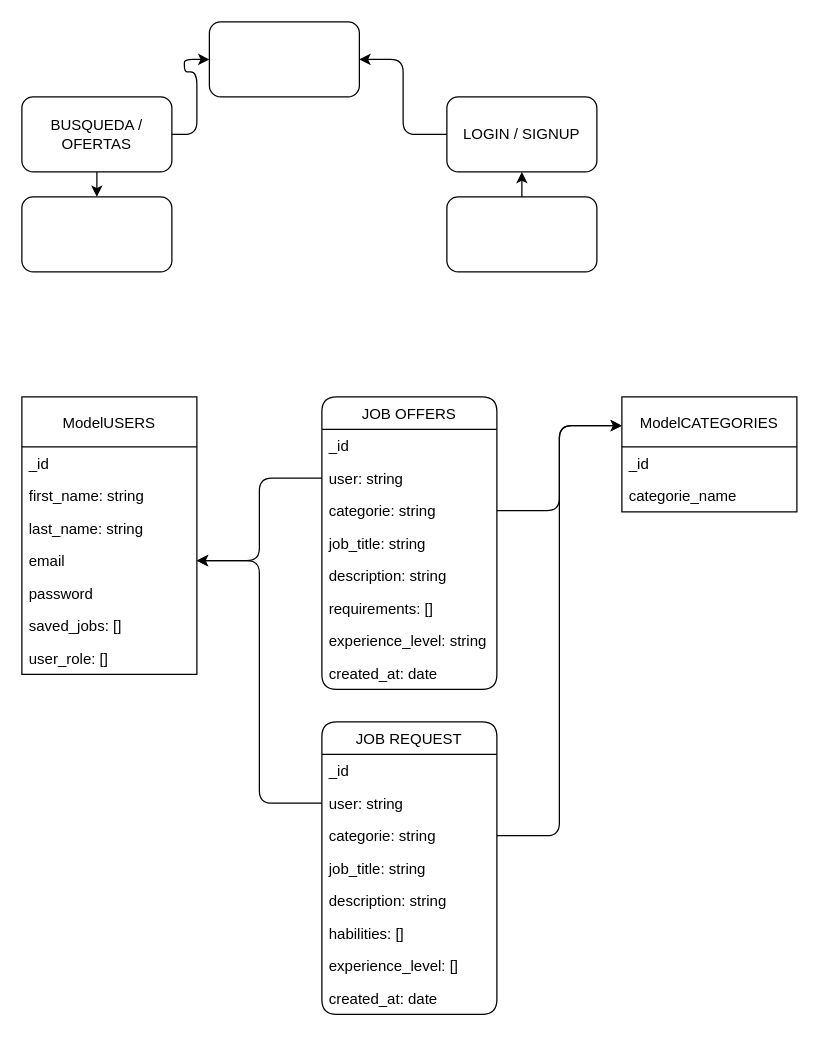
The diagram is 819 pixels wide and 1040 high, and some of its shapes have lost their labels. The centre of each missing label's shape, as x and y in pixels:
"CATEGORIAS" goes at point (96, 234).
"PANEL DE CONTROL / DASHBOARD" goes at point (521, 234).
"PORTAL DE EMPLEOS" goes at point (283, 59).
